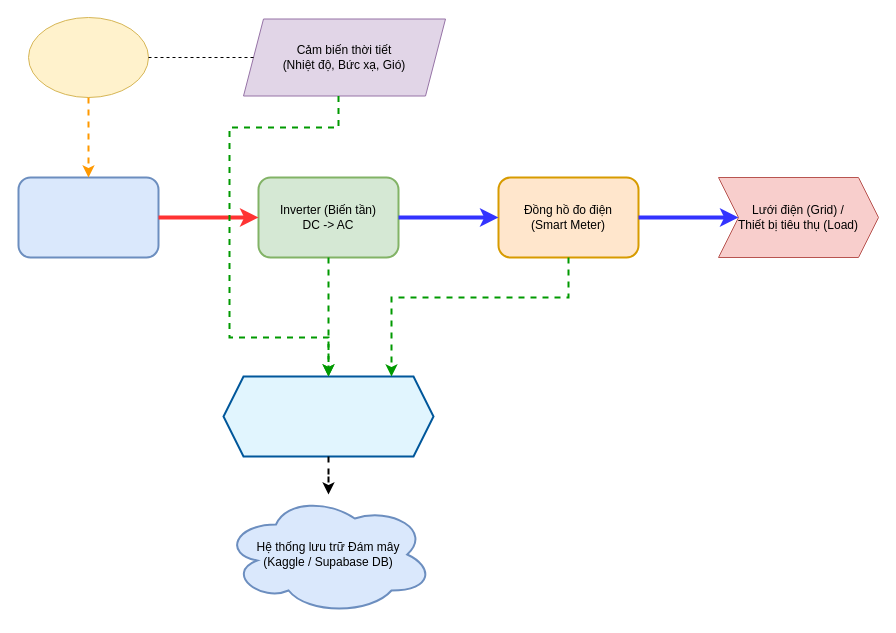
The diagram is 896 pixels wide and 633 high, and some of its shapes have lost their labels. Here are the shapes that lost their labels. From the top down, the box of each, then its label:
(28, 16, 148, 98): Mặt trời (Bức xạ quang năng)
(17, 176, 159, 258): Tấm Pin Năng Lượng (PV Array)
(222, 375, 434, 457): IoT Gateway / Data Logger (Thu thập dữ liệu đo lường)
